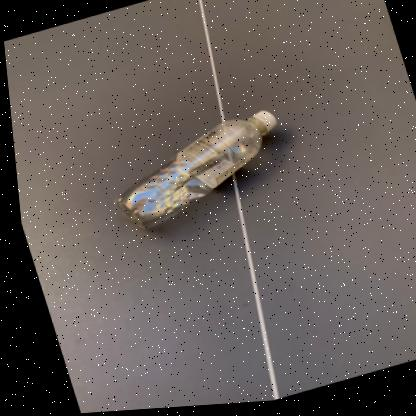Plastic: (110, 113, 272, 230)
